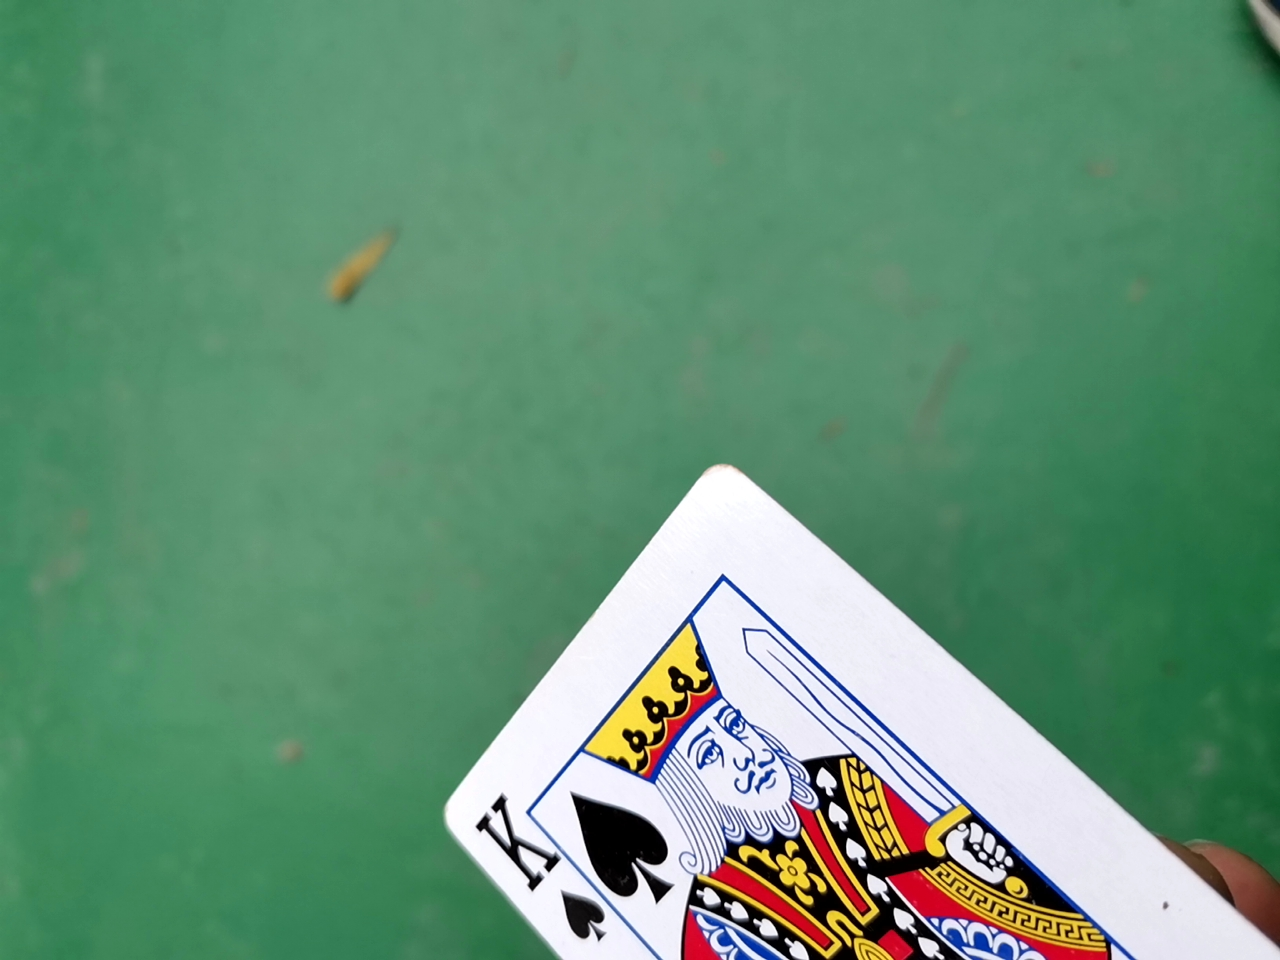ht k: (390, 461, 1280, 954)
